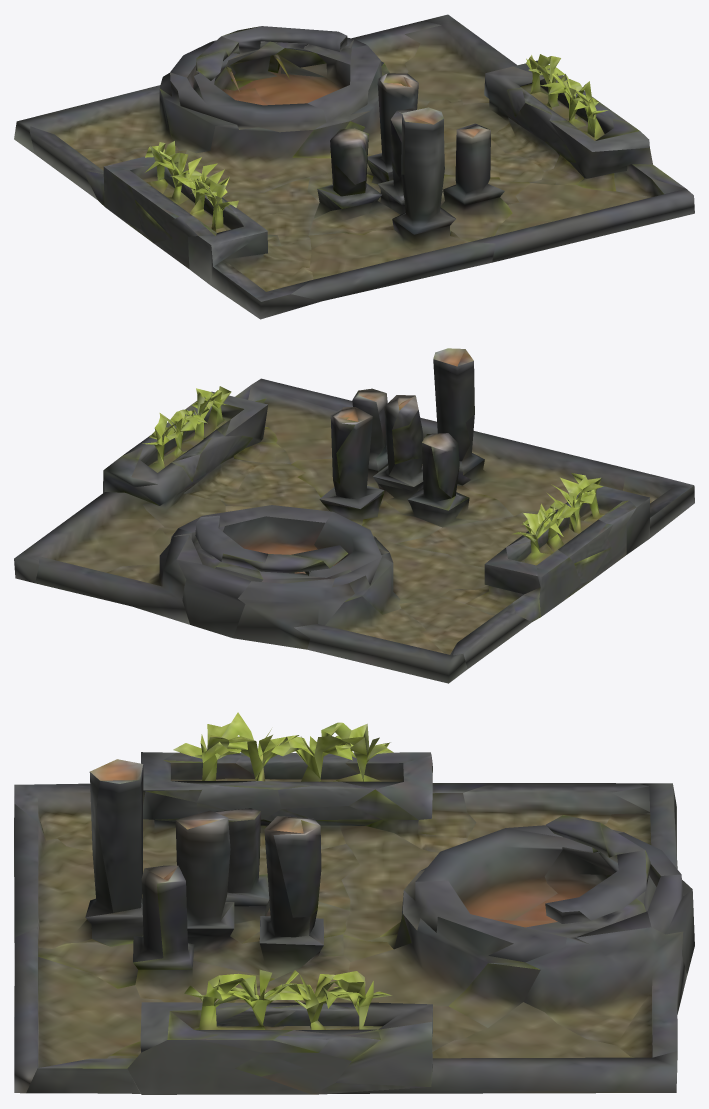
The model's file is taman_belakang_tangga_lod2.glb.
3 views of the same model, one above another, from view 1: azimuth 30°, elevation 25°; view 2: azimuth 150°, elevation 25°; view 3: azimuth 270°, elevation 25° (orthographic). The views are drawn at different scales.
Parts seen in each view (by area): view 1: tripo_node_c2550a1b-95f1-440a-8f57-cc66f84ad2c7; view 2: tripo_node_c2550a1b-95f1-440a-8f57-cc66f84ad2c7; view 3: tripo_node_c2550a1b-95f1-440a-8f57-cc66f84ad2c7.
Boxes of the visible parts, box(x1,y1,x2,y2) form: tripo_node_c2550a1b-95f1-440a-8f57-cc66f84ad2c7: box(14, 14, 694, 319); tripo_node_c2550a1b-95f1-440a-8f57-cc66f84ad2c7: box(14, 348, 694, 683); tripo_node_c2550a1b-95f1-440a-8f57-cc66f84ad2c7: box(14, 712, 694, 1094).
Bounding box in the file's own units: 0.9998 × 0.2749 × 0.9982.
1 material, 1 textured.
